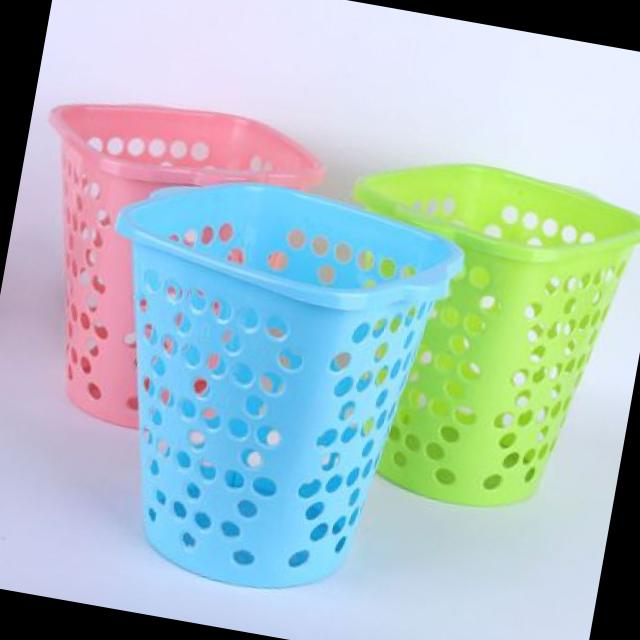dustbin: (50, 159, 472, 622), (302, 139, 640, 530), (0, 75, 334, 459)
